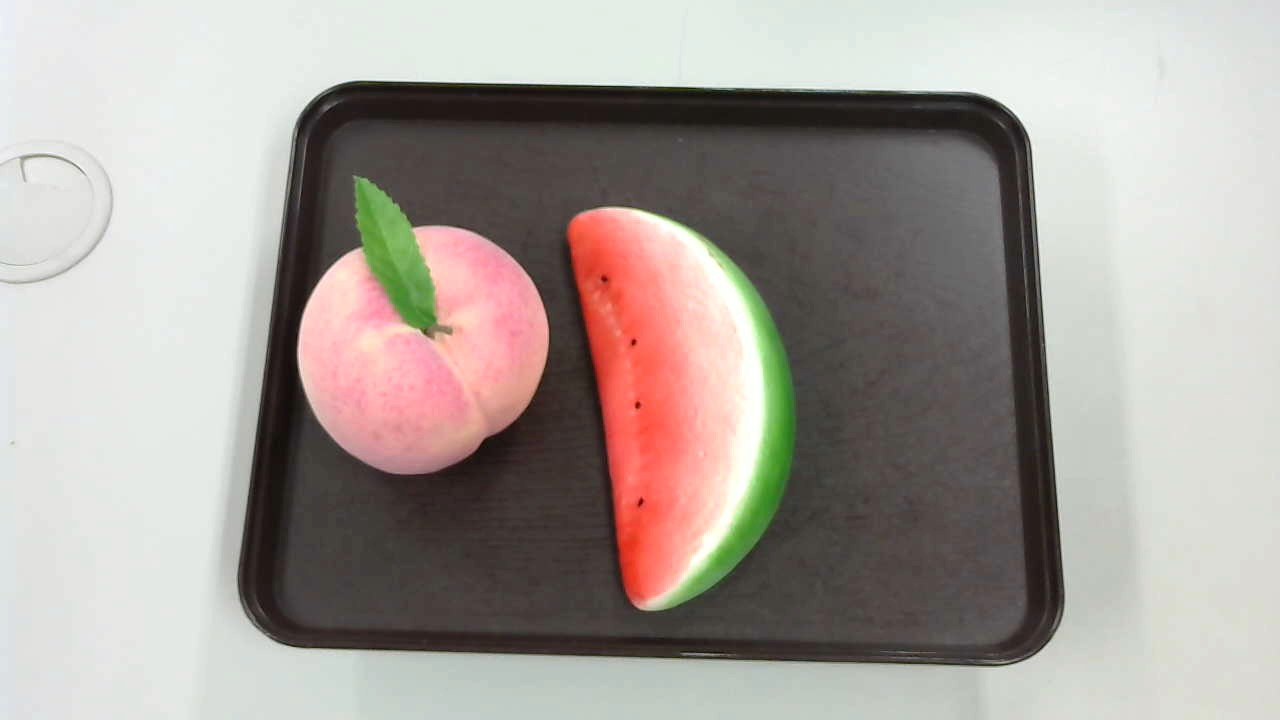peach: (295, 165, 547, 479)
water melon: (556, 190, 795, 607)
